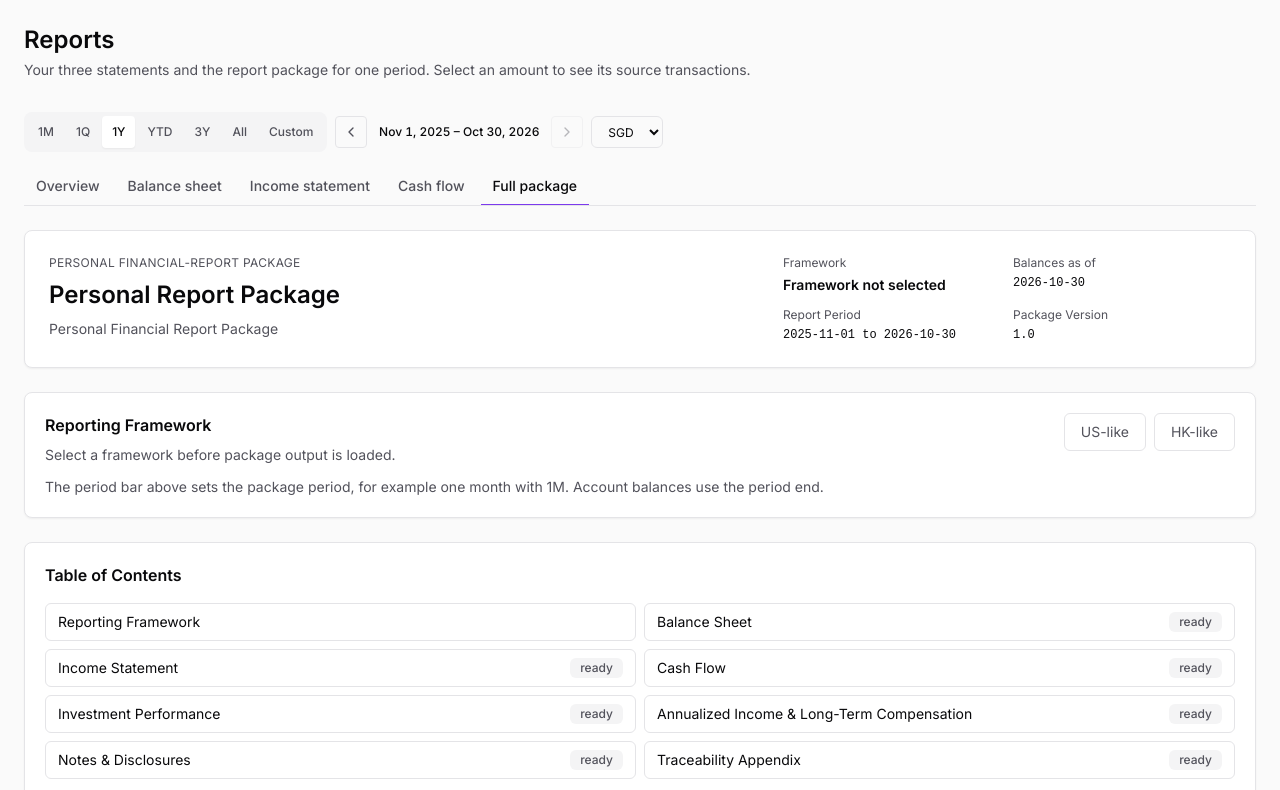
Test: PersonalReportPackagePage › AC22.18.3 does not track REPORT_GENERATED when snapshot generation fails
Click the button "US-like".
click(1105, 432)  # box x1=1064 y1=413 x2=1146 y2=451
(page scrolled)
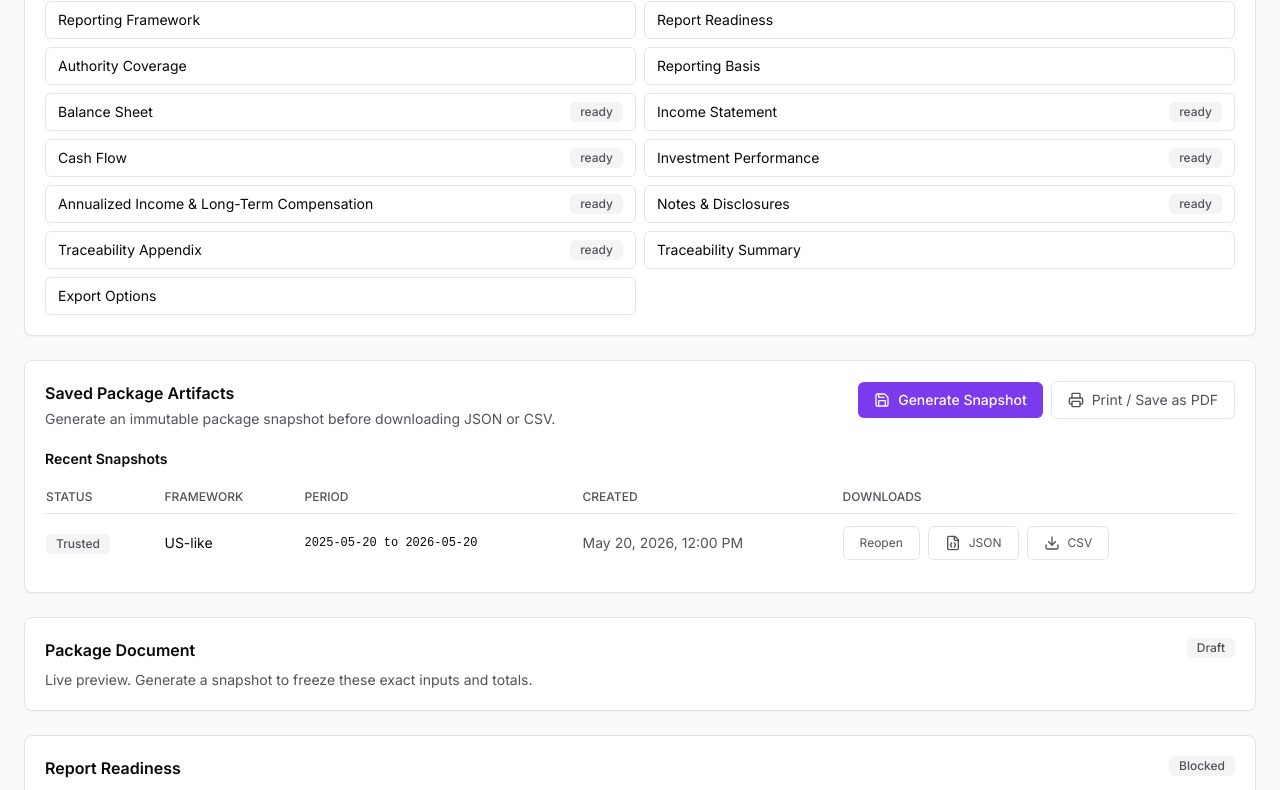
Click the button "Generate Snapshot".
click(950, 400)  # box x1=858 y1=382 x2=1043 y2=418
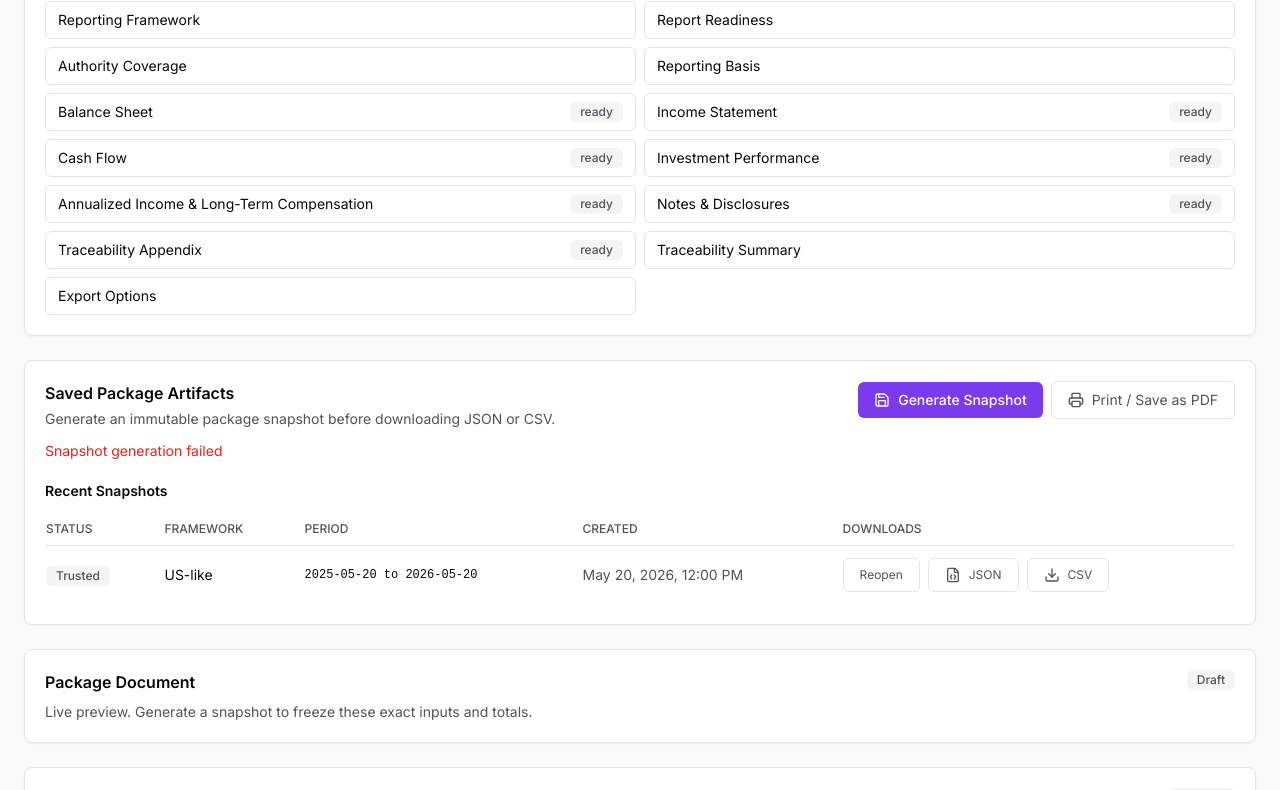
Now the text "Snapshot generation failed" is shown, box x1=45 y1=442 x2=222 y2=459
